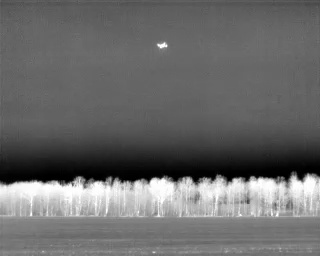DRONE: (153, 38, 172, 54)
